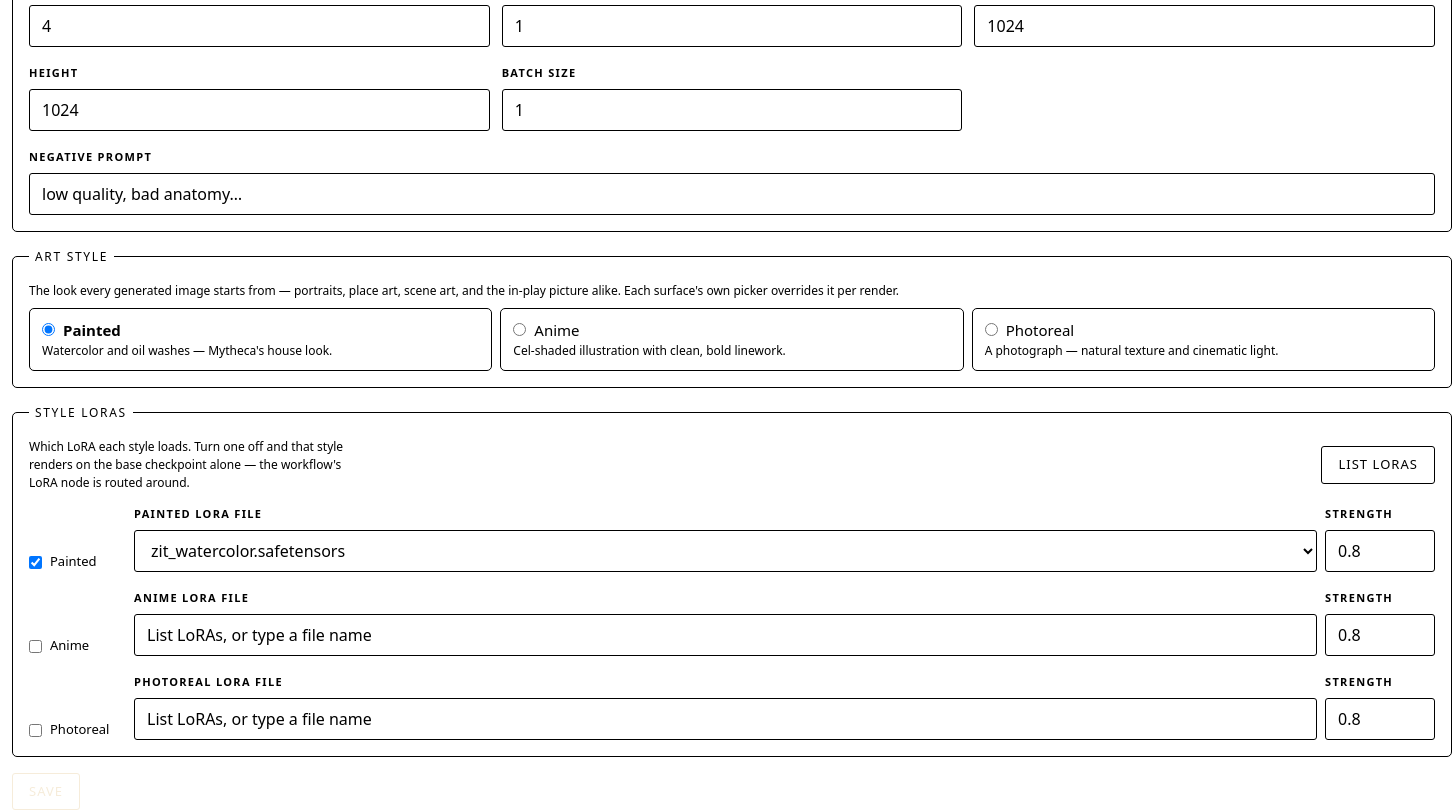
ImageModelsTab › hydrates from settings and saves the config
This screenshot has width=1452, height=810.
(page scrolled)
Click the button "Save". click: (46, 792)
box: [12,773,80,809]
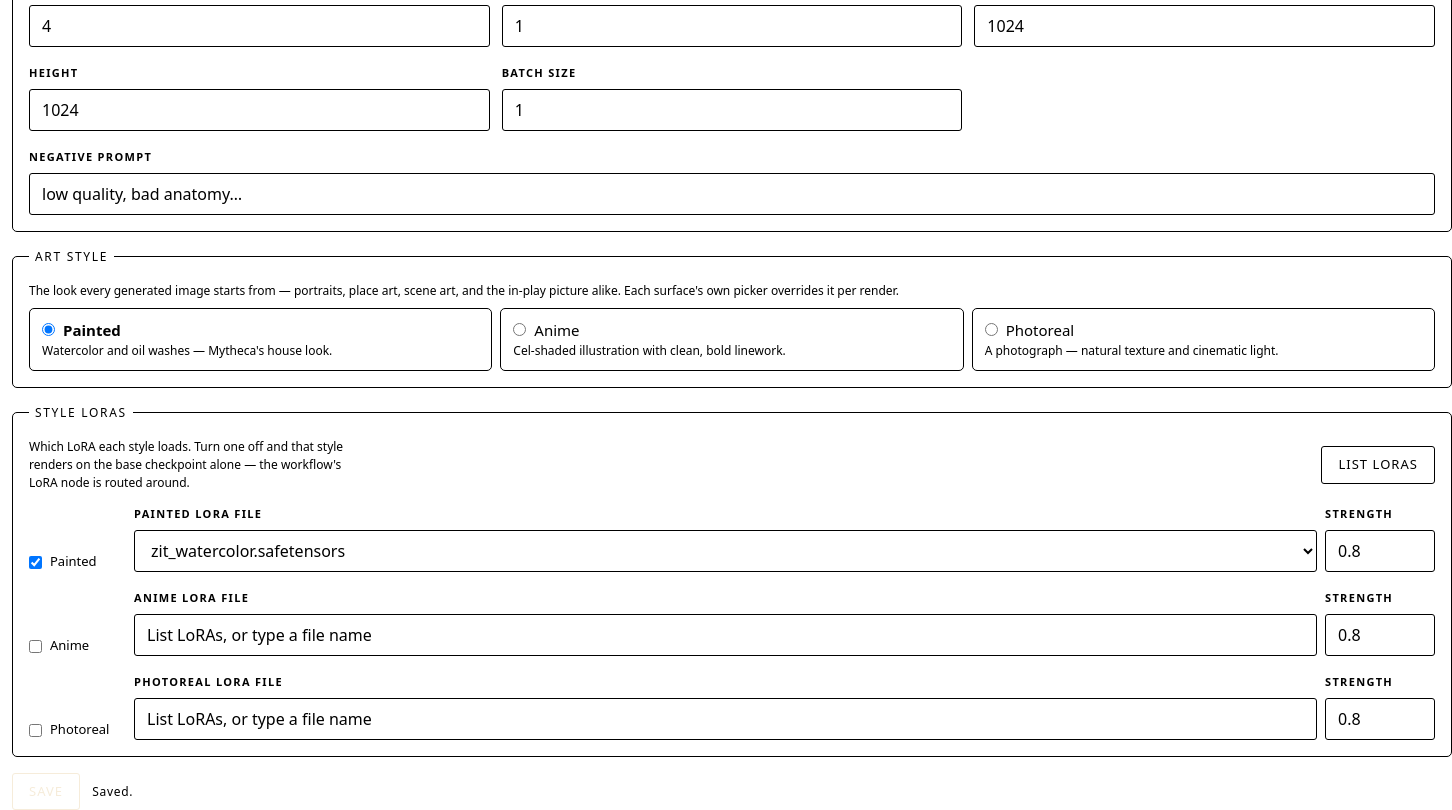
Expected: the text "Saved." is shown, [92,782,133,800]
